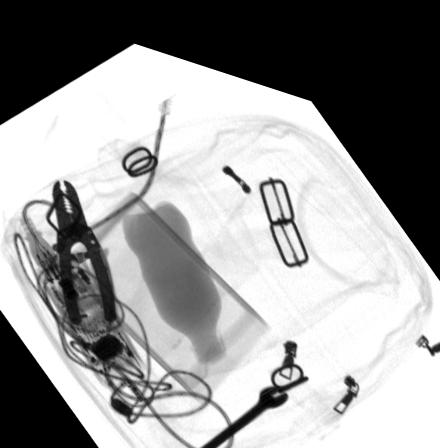Pliers: (49, 173, 120, 321)
Wrench: (171, 367, 287, 448)
